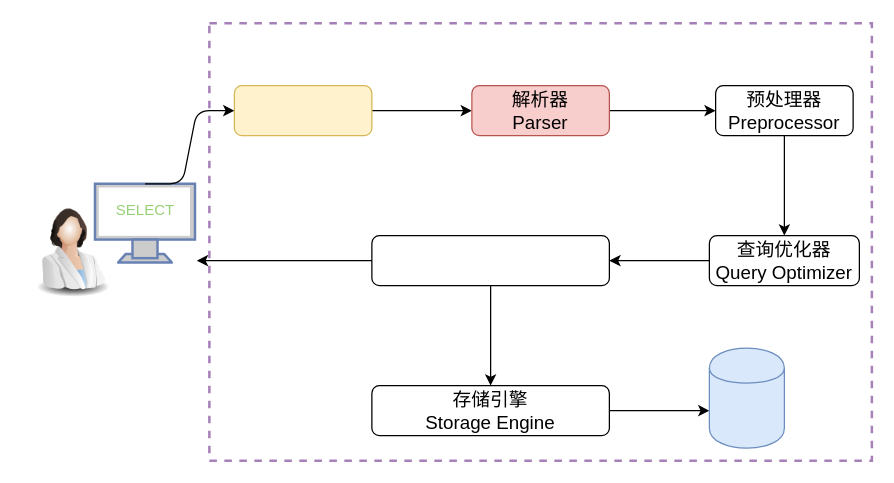
This 894x483 diagram has some shape labels left out. Each missing label, with the box of its shape:
数据: (708, 347, 784, 448)
查询执行引擎 Query Execution Engine: (371, 234, 609, 286)
查询缓冲 Query Cache: (233, 84, 372, 136)
